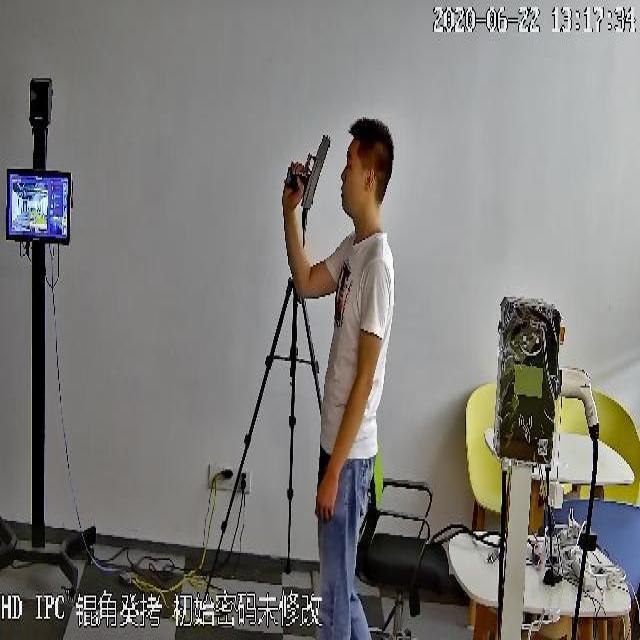pistol: (284, 134, 334, 213)
